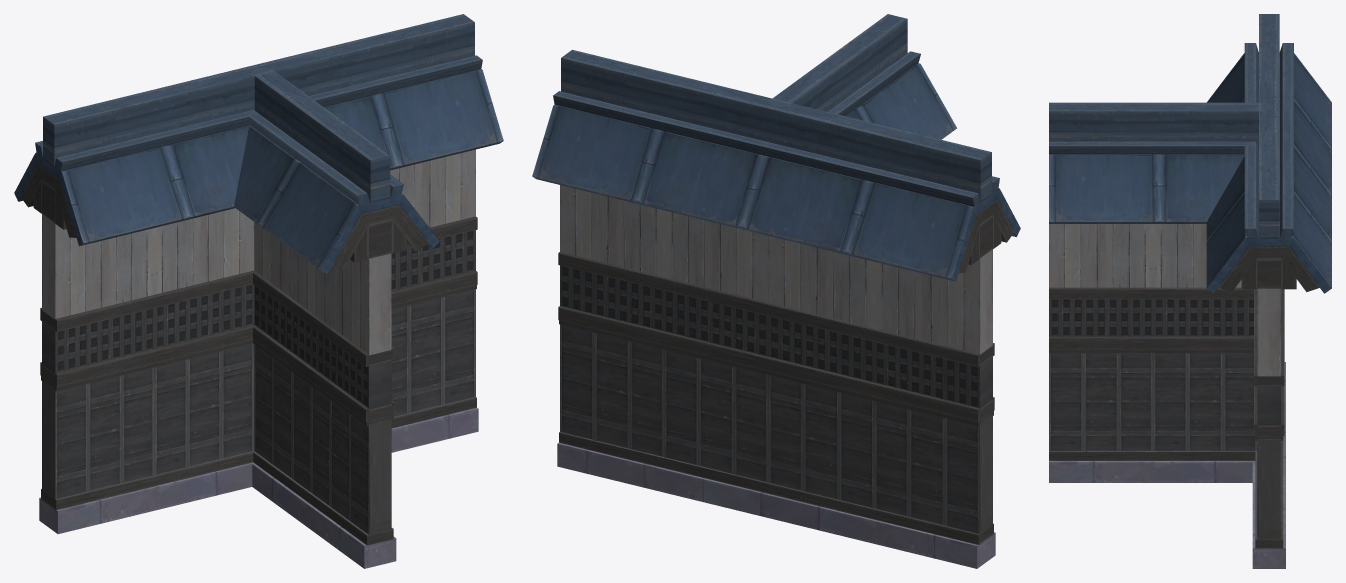
Rendered from Homeworld_Exterior_Dq_Build_Wall_03_Vo.fbx.
3 views of the same model, side by side, from view 1: azimuth 30°, elevation 25°; view 2: azimuth 150°, elevation 25°; view 3: azimuth 270°, elevation 25° (orthographic). The views are drawn at different scales.
Visible parts, largest first — view 1: Homeworld_Exterior_Dq_Build_Wall_03_Vo; view 2: Homeworld_Exterior_Dq_Build_Wall_03_Vo; view 3: Homeworld_Exterior_Dq_Build_Wall_03_Vo.
Boxes of the visible parts, box(x1,y1,x2,y2) form: Homeworld_Exterior_Dq_Build_Wall_03_Vo: box(14, 14, 503, 568); Homeworld_Exterior_Dq_Build_Wall_03_Vo: box(532, 14, 1020, 568); Homeworld_Exterior_Dq_Build_Wall_03_Vo: box(1049, 14, 1331, 568).
Bounding box in the file's own units: 5 × 4.62 × 3.21.
